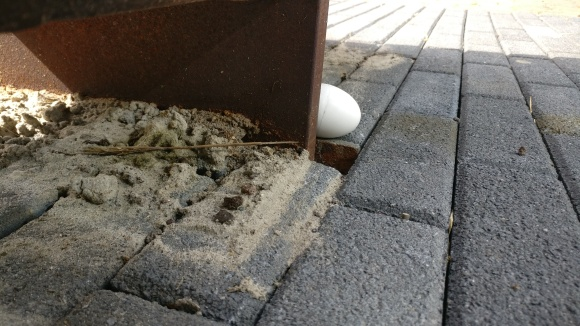egg: (313, 82, 363, 140)
